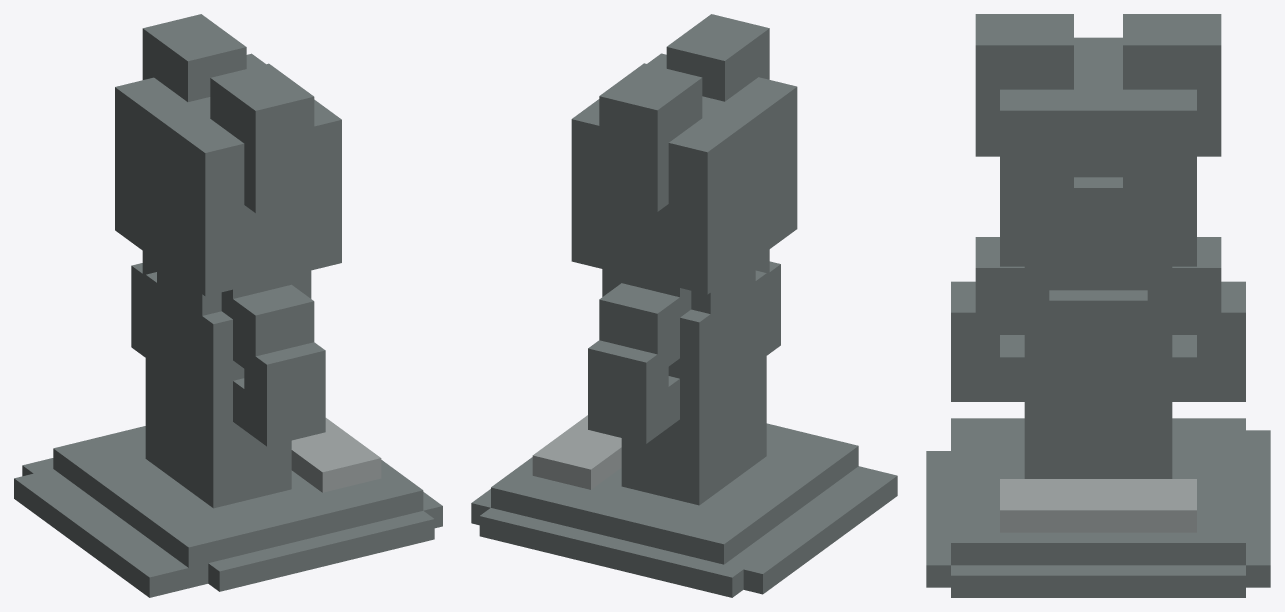
The model's file is env_7.obj.
The picture shows the model from 3 angles, left to right: view 1: azimuth 30°, elevation 25°; view 2: azimuth 150°, elevation 25°; view 3: azimuth 270°, elevation 25°; orthographic projection. The views are drawn at different scales.
Bounding box in the file's own units: 1.5 × 2.2 × 1.4.
